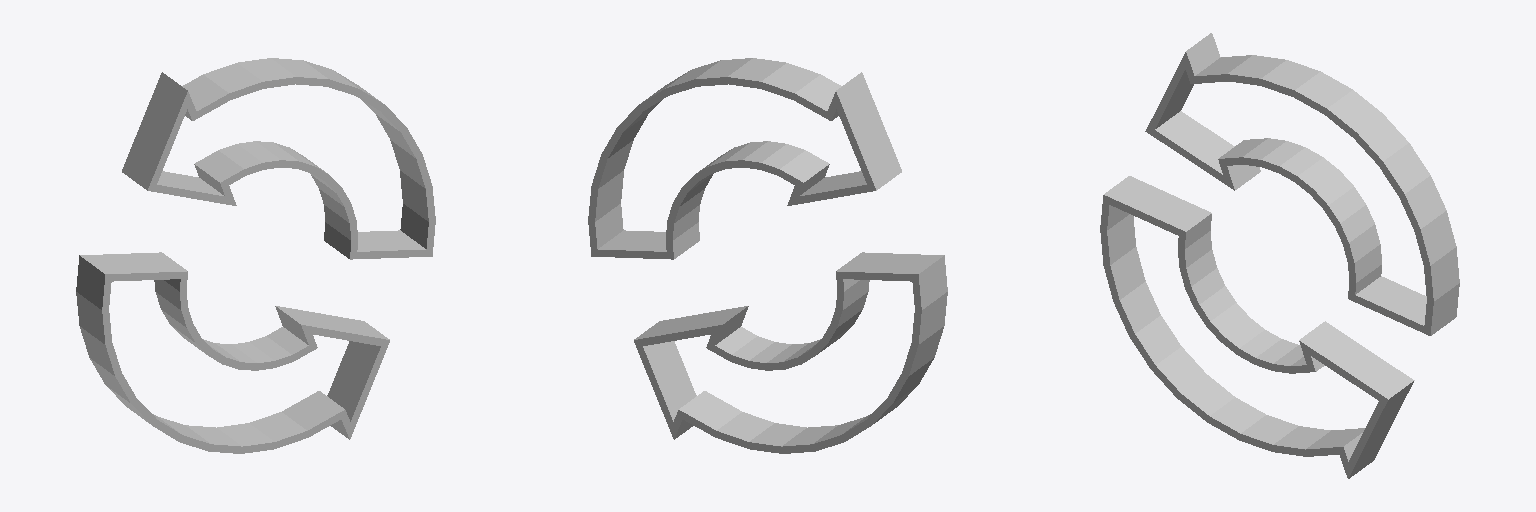
File: Arrow_35.obj
The picture shows the model from 3 angles: view 1: azimuth 30°, elevation 25°; view 2: azimuth 150°, elevation 25°; view 3: azimuth 330°, elevation 25°; orthographic projection.
Visible parts, largest first — view 1: Arrow_35; view 2: Arrow_35; view 3: Arrow_35.
Boxes of the visible parts, x1,y1,x2,y2 form: Arrow_35: [76, 58, 435, 453]; Arrow_35: [588, 58, 947, 453]; Arrow_35: [1100, 33, 1459, 478].
Bounding box in the file's own units: 2.89 × 3.22 × 0.3909.